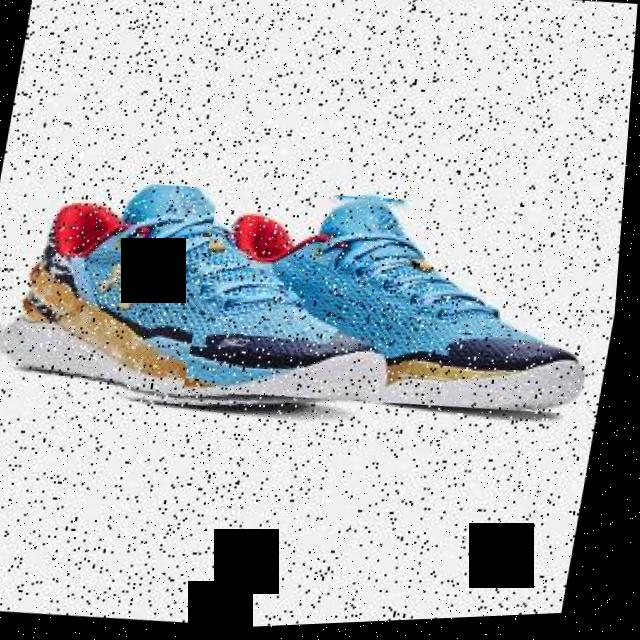shoe: (0, 162, 425, 438), (186, 174, 622, 434)
